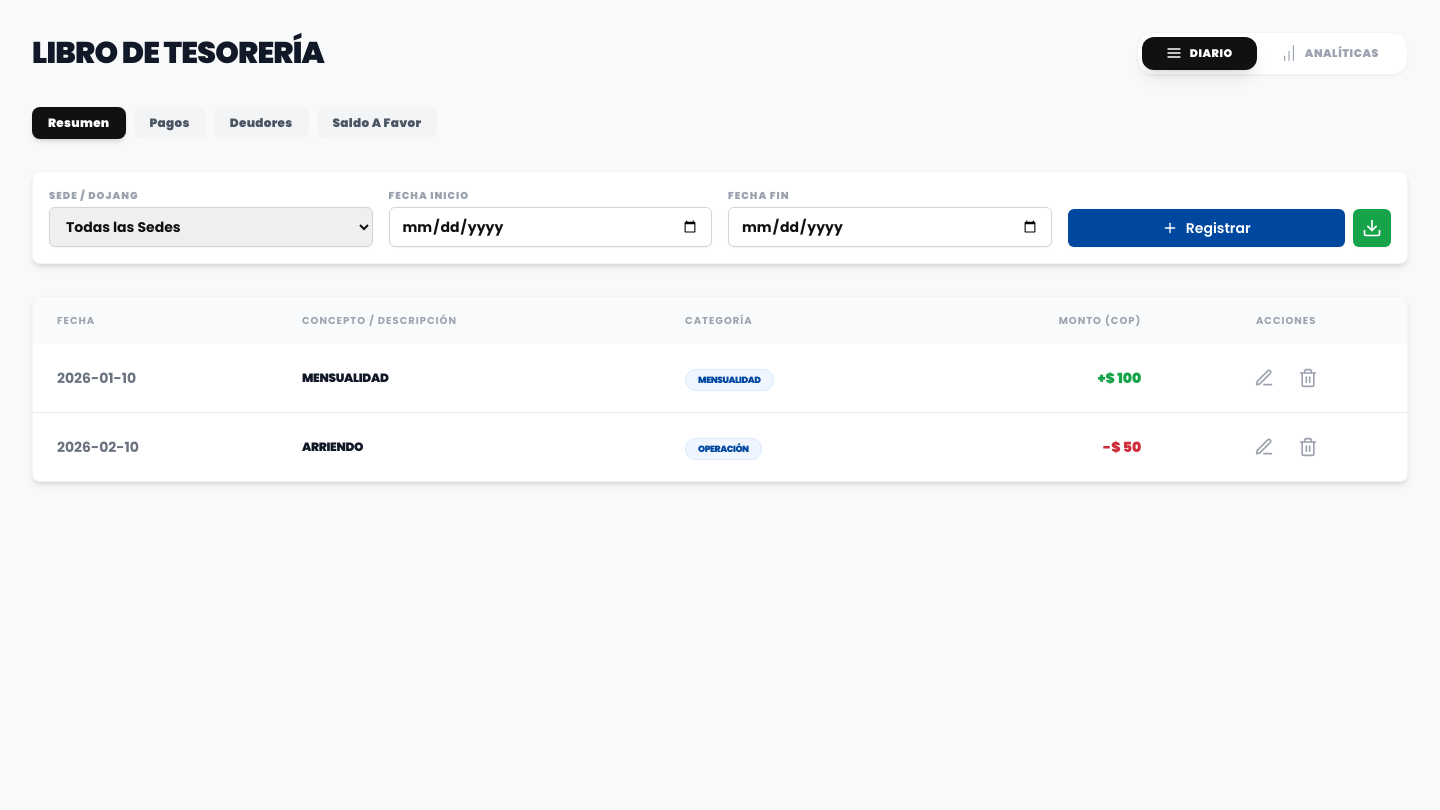
it: VistaFinanzas › filtra por fechas y muestra vacío
Type "2026-02-01" into the date field below "Fecha Inicio". click: (550, 226)
box: [388, 206, 712, 246]
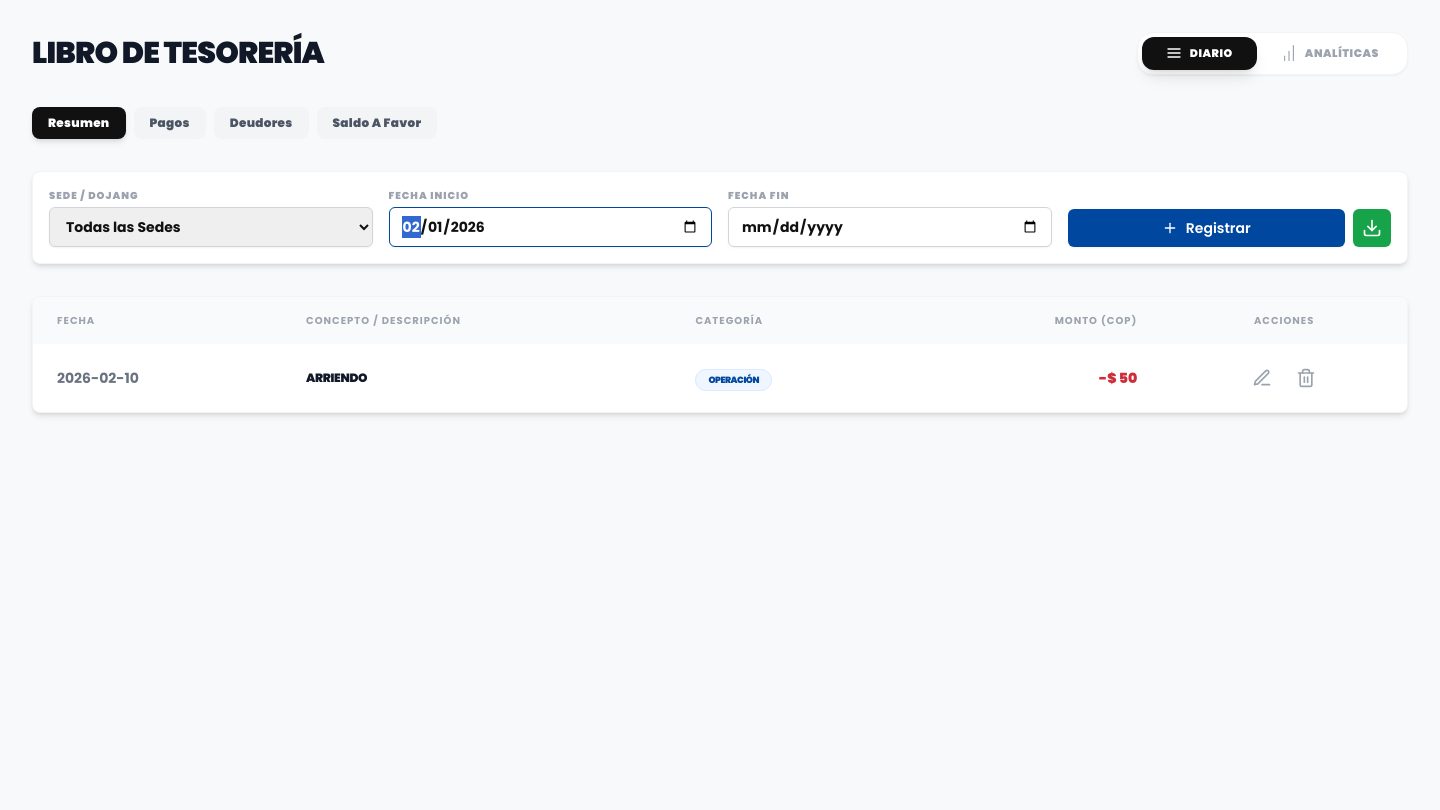
Check: the text "Mensualidad" is gone
Type "2026-02-05" into the date field below "Fecha Fin". click: (890, 226)
box: [728, 206, 1052, 246]
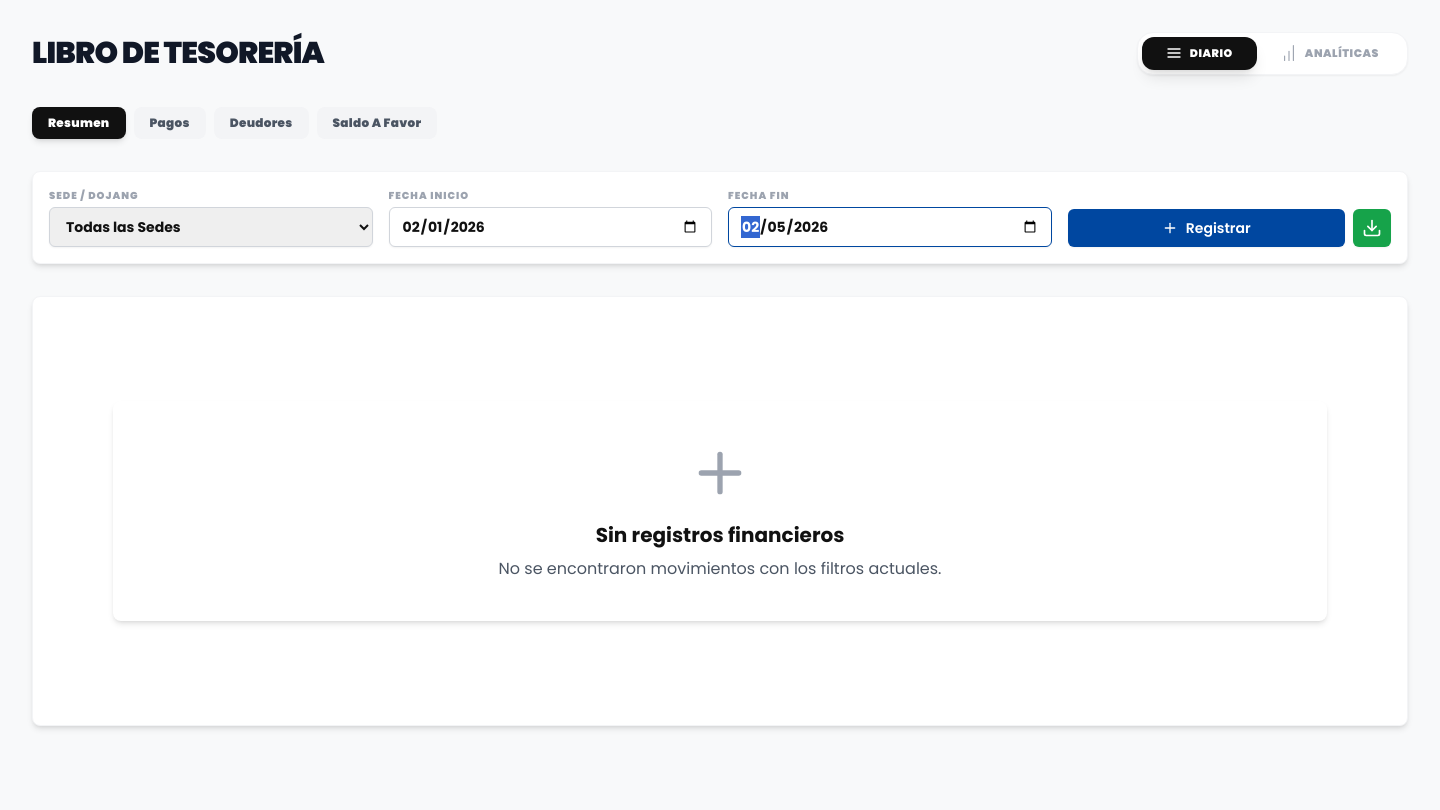
Check: the heading "Sin registros financieros" is shown, box [596, 520, 844, 548]
